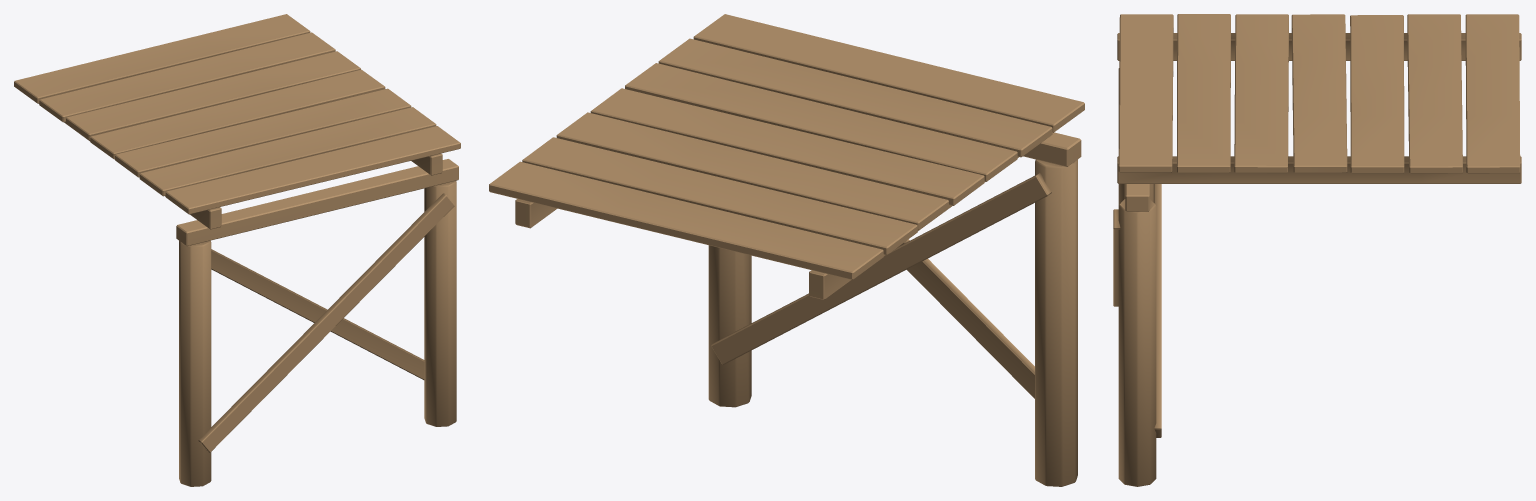
Rendered from jetty_deck.glb.
The picture shows the model from 3 angles, left to right: view 1: azimuth 30°, elevation 25°; view 2: azimuth 150°, elevation 25°; view 3: azimuth 270°, elevation 25°; orthographic projection. The views are drawn at different scales.
Parts seen in each view (by area): view 1: PART; view 2: PART; view 3: PART.
Part boxes in pixels (x1,y1,x2,y2): PART: (14,14,460,486); PART: (489,14,1084,486); PART: (1113,14,1521,486).
Bounding box in the file's own units: 1.79 × 1.75 × 2.02.
